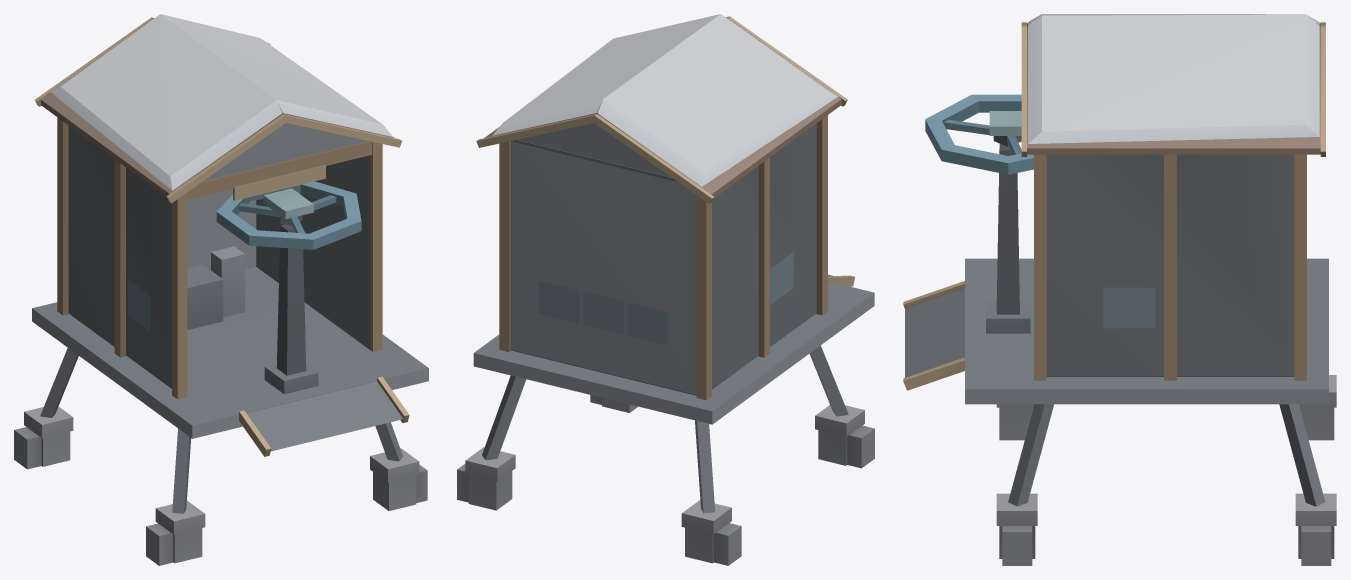
The model's file is top.lod2.glb.
The picture shows the model from 3 angles, left to right: view 1: azimuth 30°, elevation 25°; view 2: azimuth 150°, elevation 25°; view 3: azimuth 270°, elevation 25°; orthographic projection. The views are drawn at different scales.
Size of the model in its own units: 9.41 by 14.1 by 11.6.
